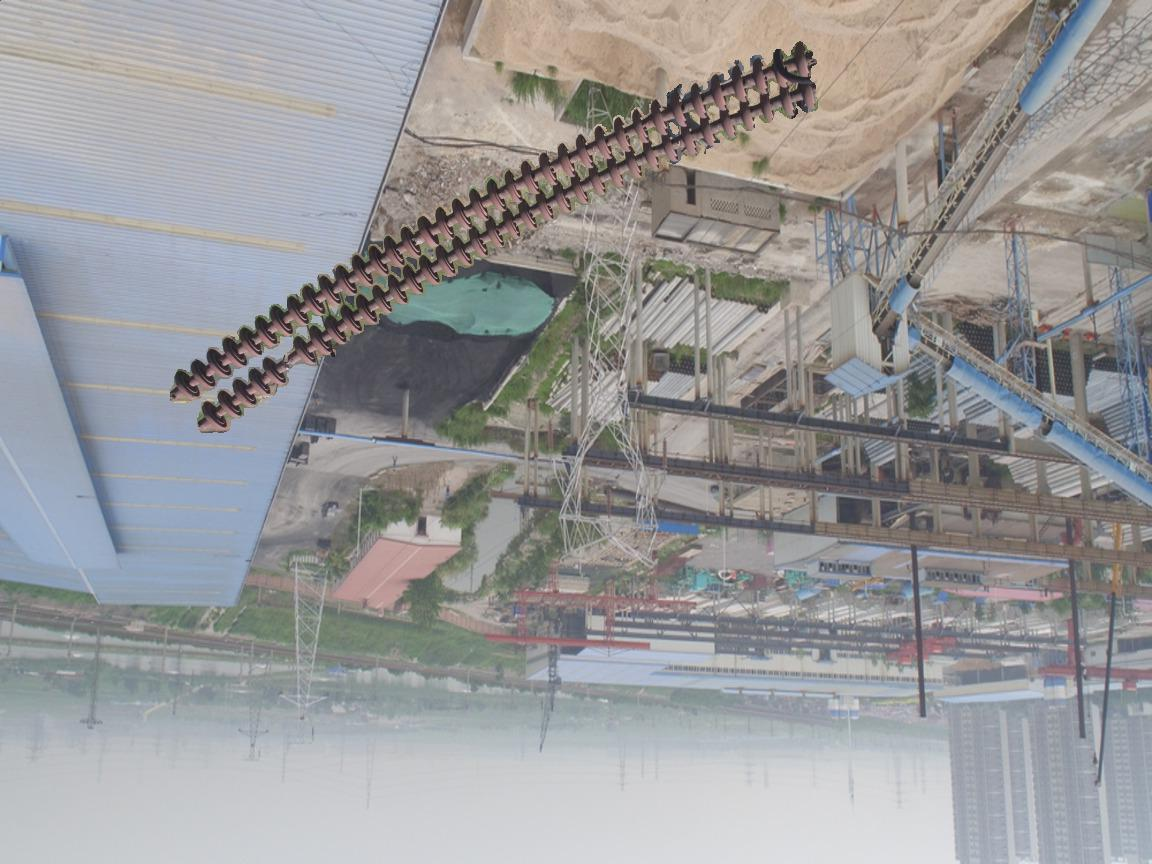insulator: (169, 39, 822, 436)
insulator_stringdrop: (259, 333, 319, 391)
